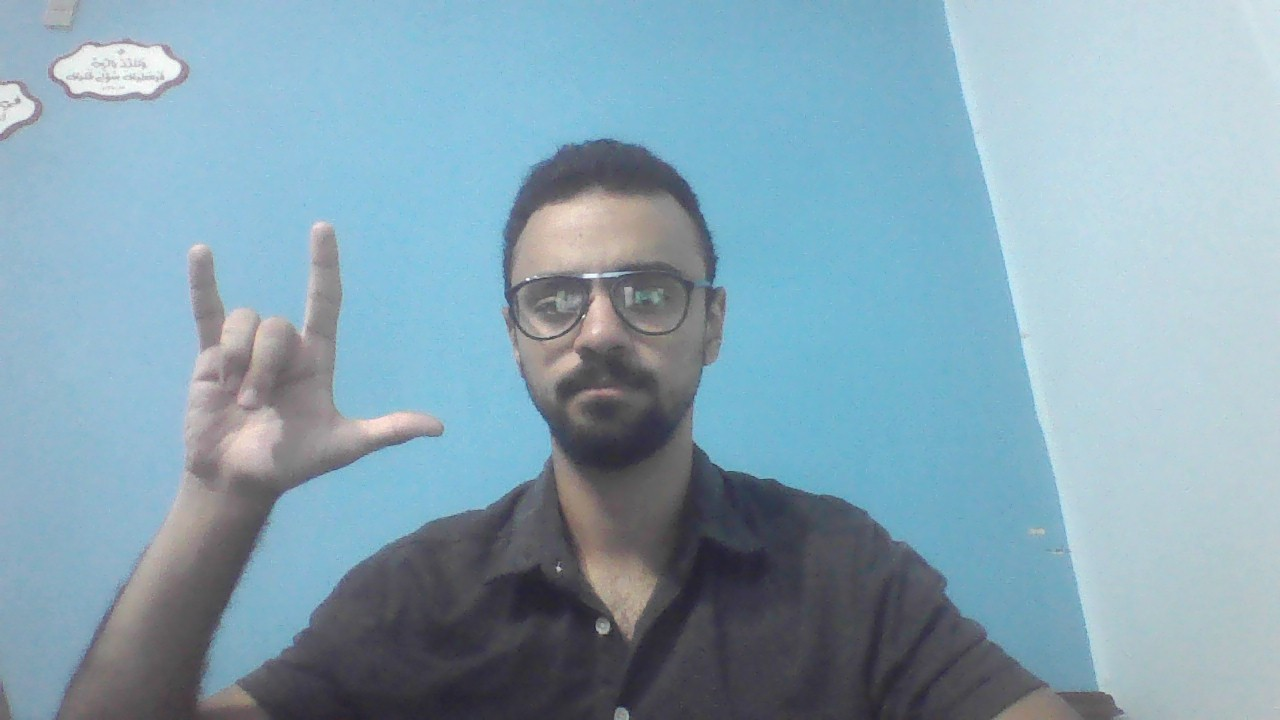love: (175, 221, 449, 482)
